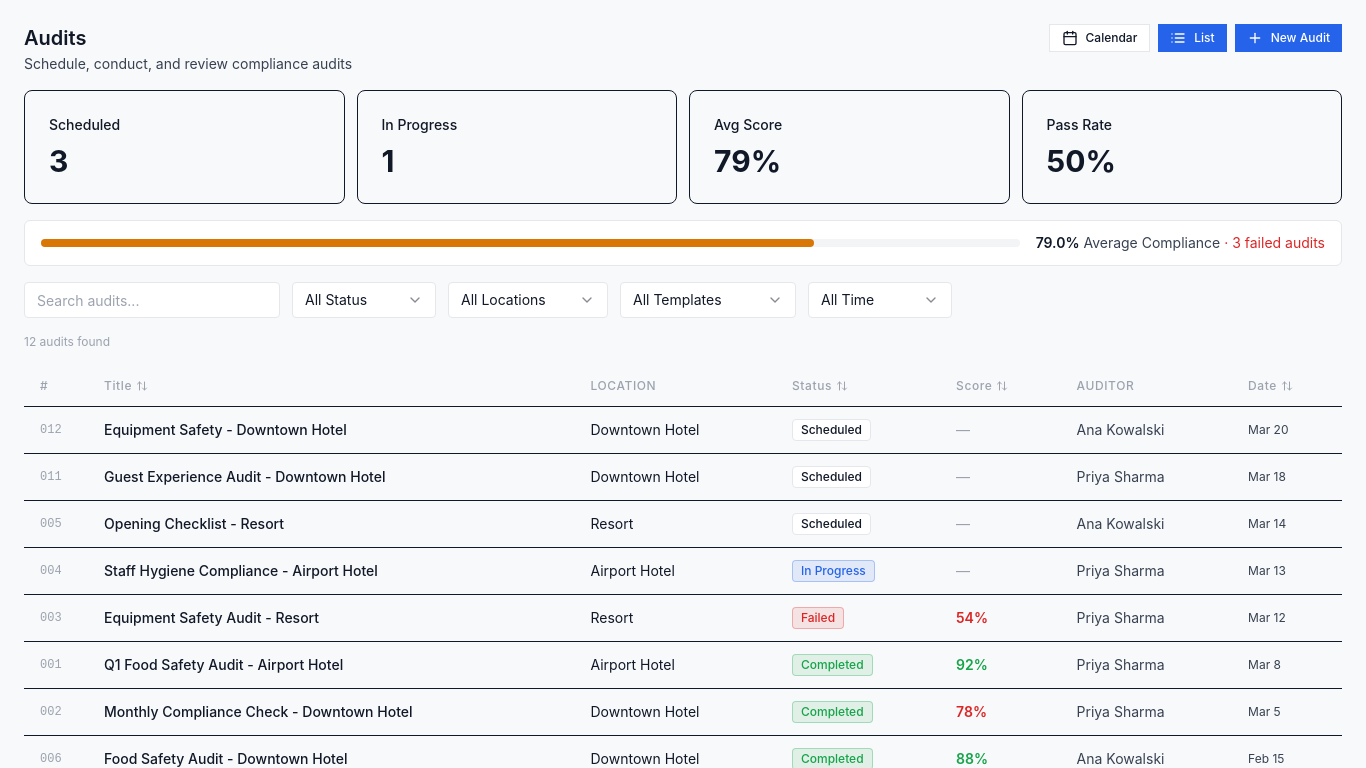
Test: AuditPage › filter by status works via KPI click
Note: "Scheduled" may appear in multiple places -- find the one inside a button
Click the button "Scheduled 3": (184, 147) [24,90,344,204]
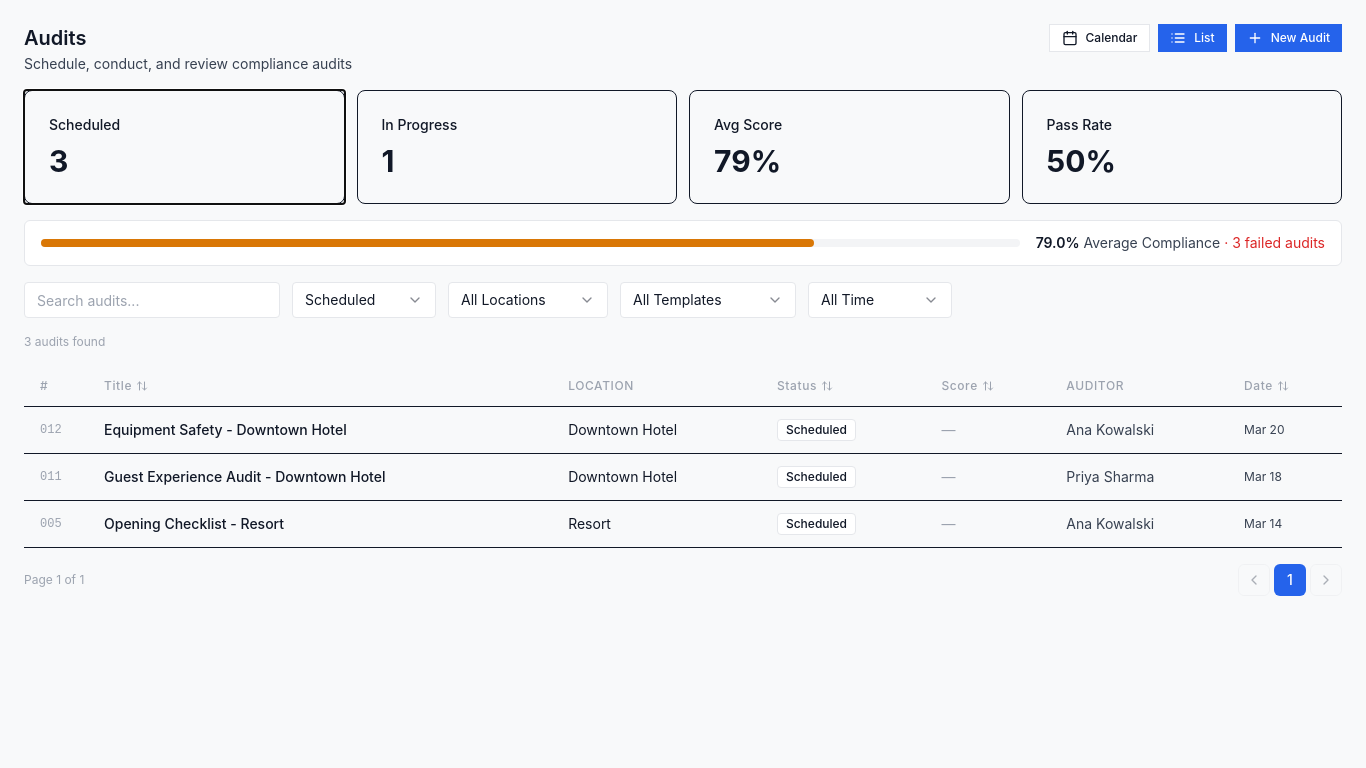
Now the text "3 audits found" is shown, box [24,334,105,349]
